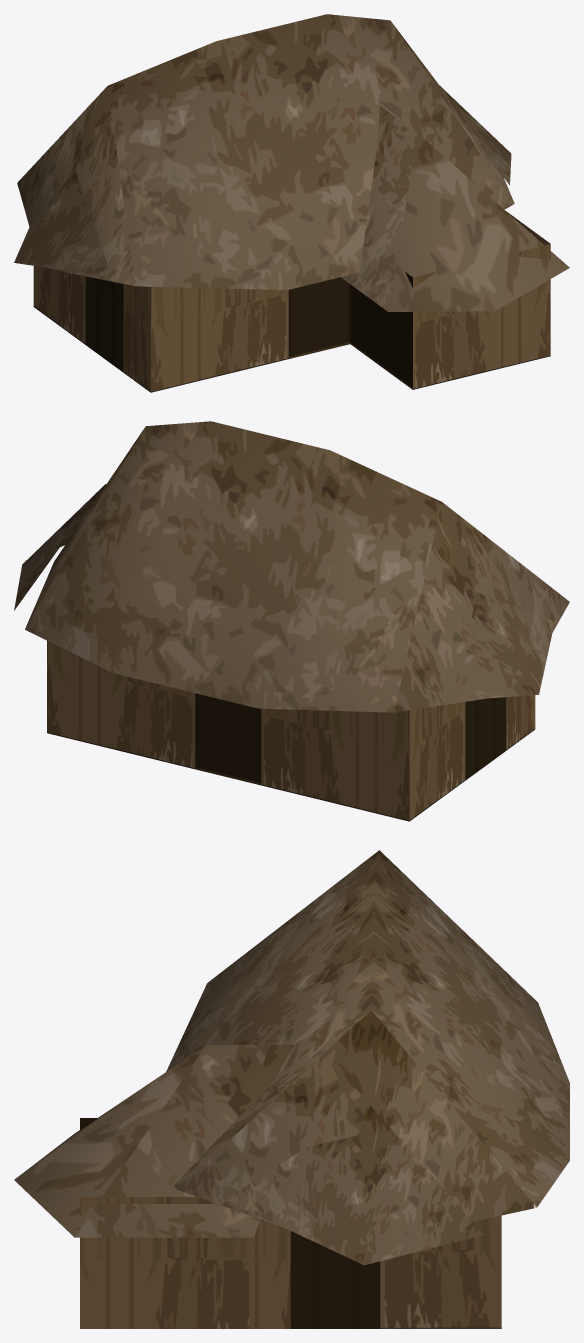
The model's file is SM_Building_Rural_03.fbx.
3 renders of one model, top to bottom at view 1: azimuth 30°, elevation 25°; view 2: azimuth 150°, elevation 25°; view 3: azimuth 270°, elevation 25°, orthographic. The views are drawn at different scales.
Visible parts, largest first — view 1: SM_Building_Rural_03; view 2: SM_Building_Rural_03; view 3: SM_Building_Rural_03.
Boxes of the visible parts, <box> form: SM_Building_Rural_03: <box>14,14,569,392</box>; SM_Building_Rural_03: <box>14,421,569,821</box>; SM_Building_Rural_03: <box>14,850,569,1328</box>.
Size of the model in its own units: 11.96 by 6.41 by 10.03.
